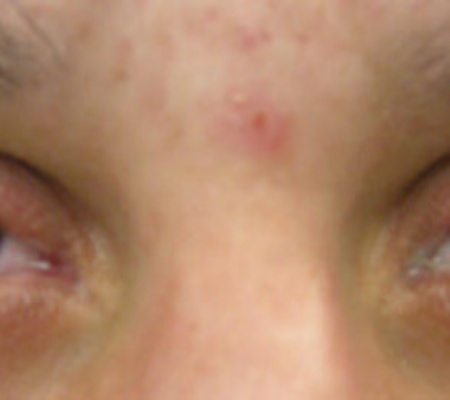SJS-TEN: (173, 9, 310, 187)
